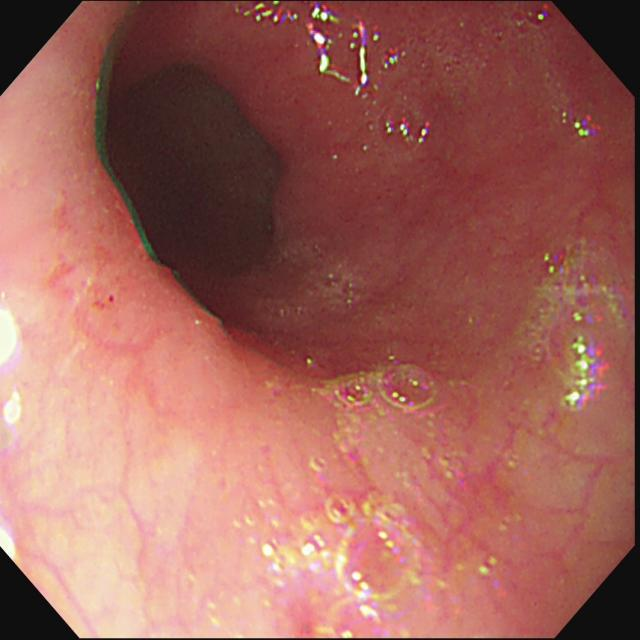E: (89, 53, 296, 295)
T: (258, 492, 427, 604), (524, 241, 631, 416), (315, 360, 442, 416), (377, 104, 435, 150), (513, 2, 553, 29)
U: (308, 3, 350, 83), (556, 97, 604, 141), (351, 20, 371, 95), (2, 297, 21, 371), (237, 3, 299, 25), (3, 390, 23, 429), (2, 527, 17, 566)
